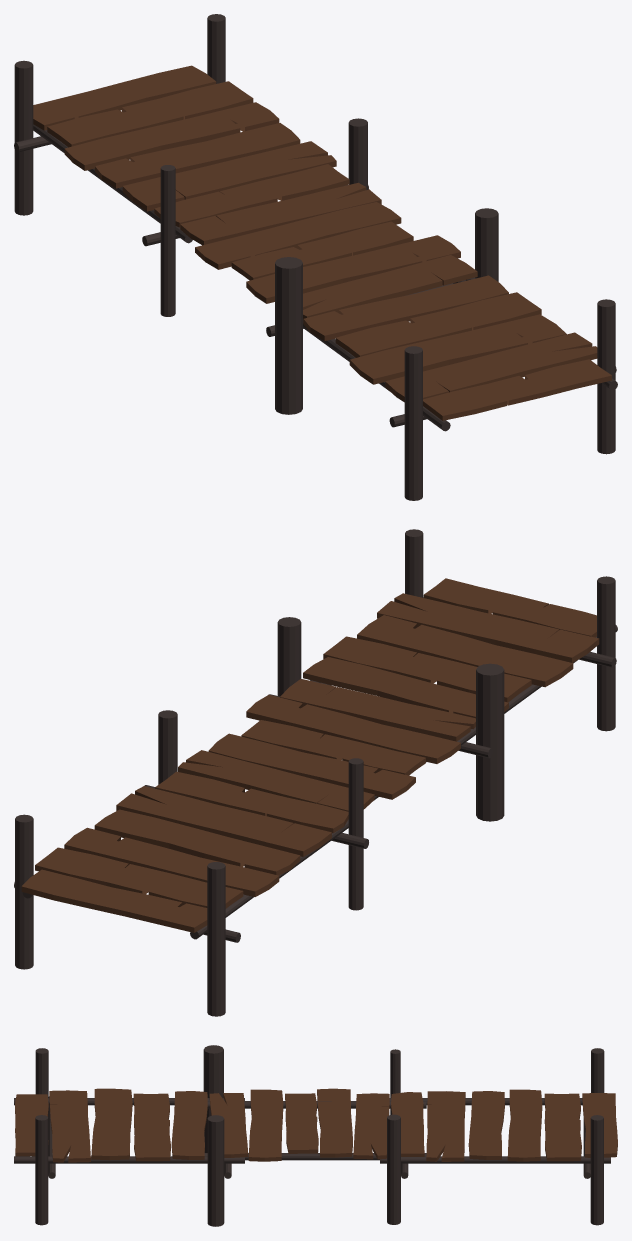
Rendered from bridge01a.fbx.
3 renders of one model, top to bottom at view 1: azimuth 30°, elevation 25°; view 2: azimuth 150°, elevation 25°; view 3: azimuth 270°, elevation 25°, orthographic. The views are drawn at different scales.
Parts seen in each view (by area): view 1: b1ap, b1am; view 2: b1ap, b1am; view 3: b1ap, b1am.
Part boxes in pixels (<box>): b1ap: <box>33,65,611,420</box>; b1am: <box>14,14,617,500</box>; b1ap: <box>21,578,599,932</box>; b1am: <box>14,529,617,1016</box>; b1ap: <box>15,1088,617,1162</box>; b1am: <box>14,1045,610,1226</box>.
Bounding box in the file's own units: 1069 × 672 × 3509.
